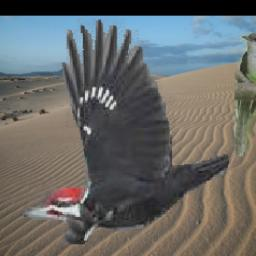Cuckoo: (233, 33, 256, 157)
Woodpecker: (23, 18, 238, 244)
